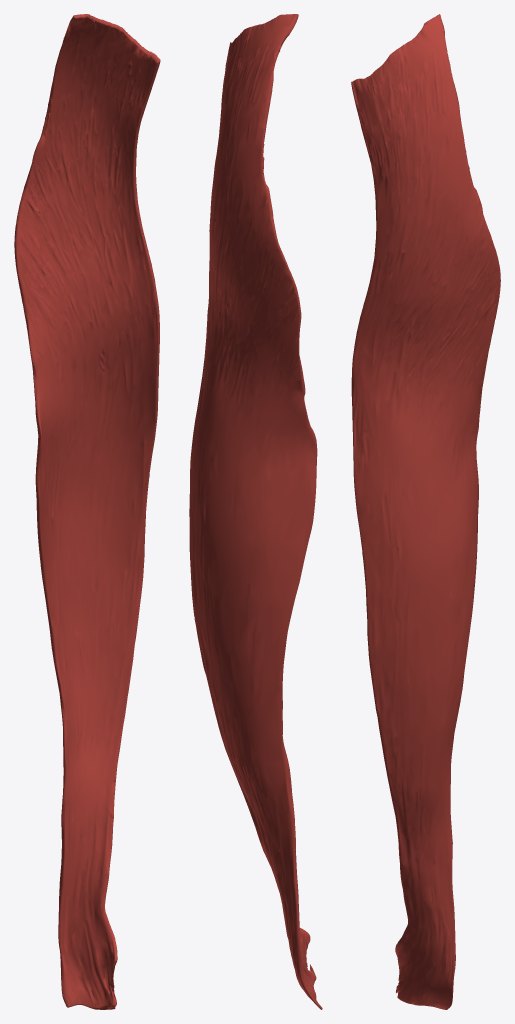
File: musculos-iliotibial-tract-l.glb
The picture shows the model from 3 angles, left to right: view 1: azimuth 90°, elevation 25°; view 2: azimuth 210°, elevation 25°; view 3: azimuth 270°, elevation 25°; orthographic projection. The views are drawn at different scales.
Visible parts, largest first — view 1: Iliotibial tract.l; view 2: Iliotibial tract.l; view 3: Iliotibial tract.l.
Boxes of the visible parts, x1=… form: Iliotibial tract.l: x1=14, y1=14, x2=160, y2=1009; Iliotibial tract.l: x1=189, y1=14, x2=322, y2=1009; Iliotibial tract.l: x1=351, y1=14, x2=500, y2=1009.
Size of the model in its own units: 0.0714 by 0.6053 by 0.0816.
